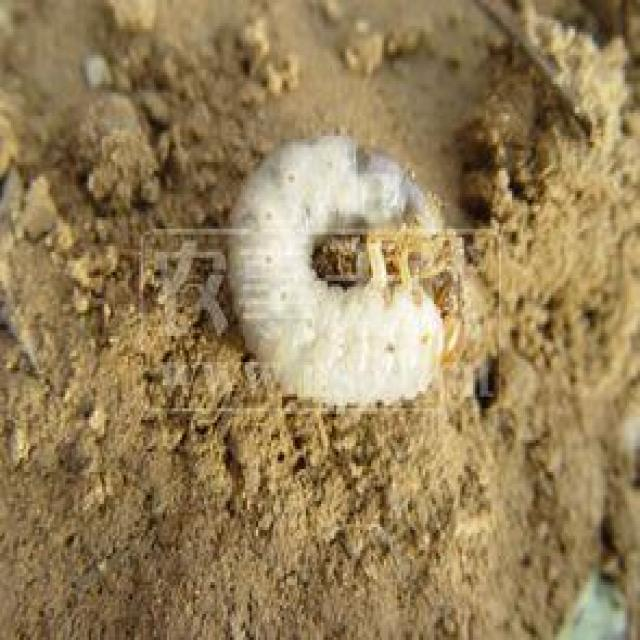Grub-Adult-: (211, 131, 476, 429)
